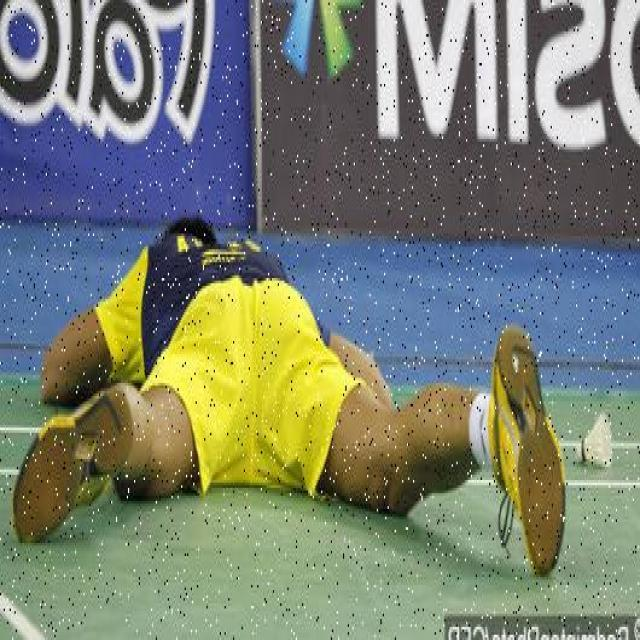fall: (25, 212, 562, 582)
